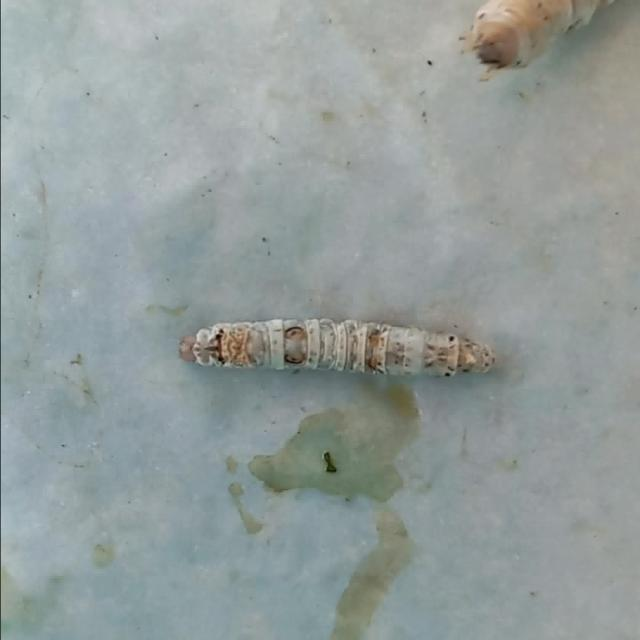Grasserie: (172, 290, 509, 410)
